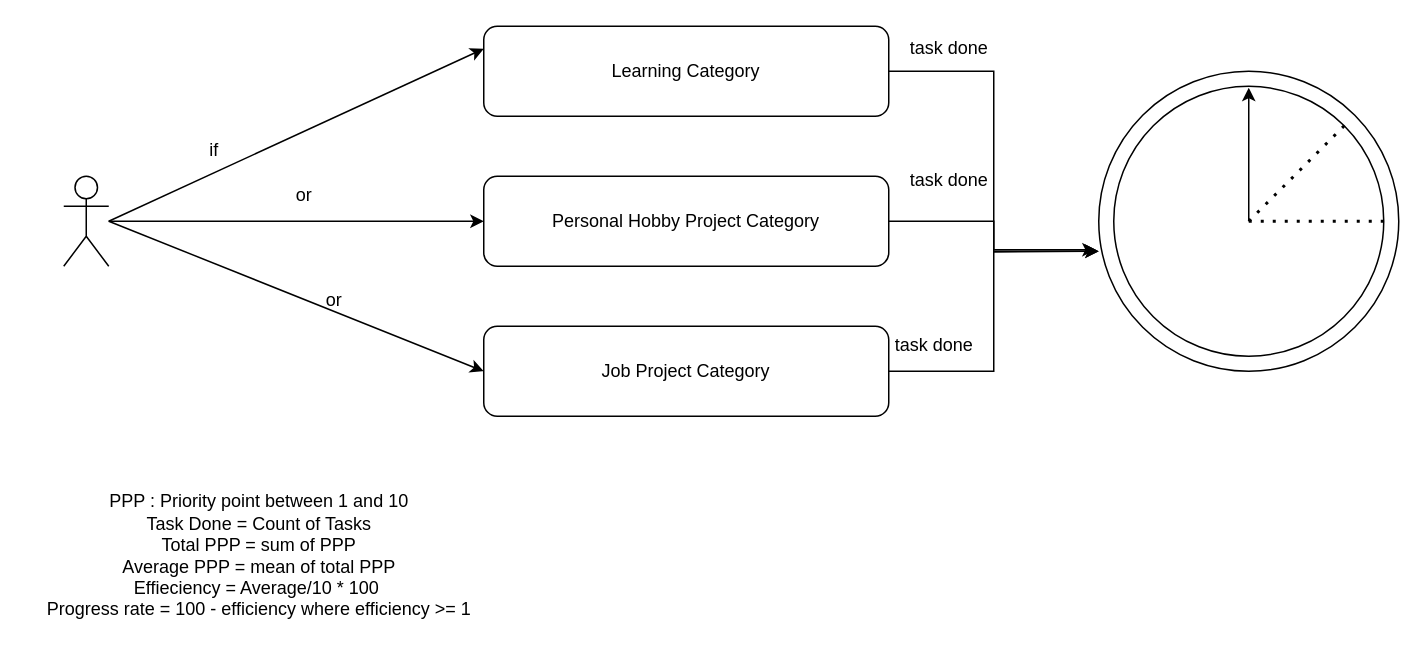
The diagram is 1425 pixels wide and 657 high, and some of its shapes have lost their labels. Here are the shapes that lost their labels. From the top down, the centre of each, then its label:
At point 85,220: "Actor".
At point 1248,220: "Progress Priority Point".
